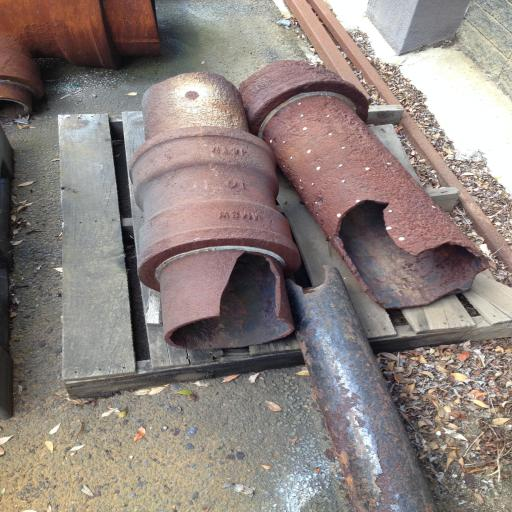segmentation: (239, 61, 488, 308), (130, 73, 300, 347), (401, 120, 512, 272), (285, 0, 400, 104), (0, 0, 161, 68), (284, 0, 369, 98), (0, 35, 44, 115), (339, 164, 343, 167)
